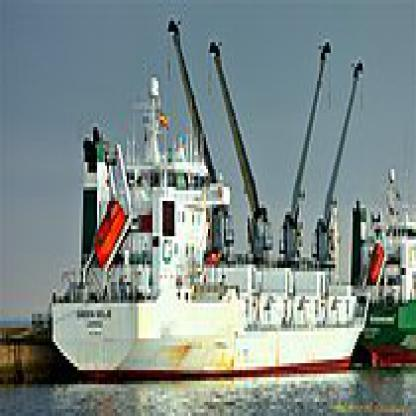Container Ship: (47, 16, 412, 380)
